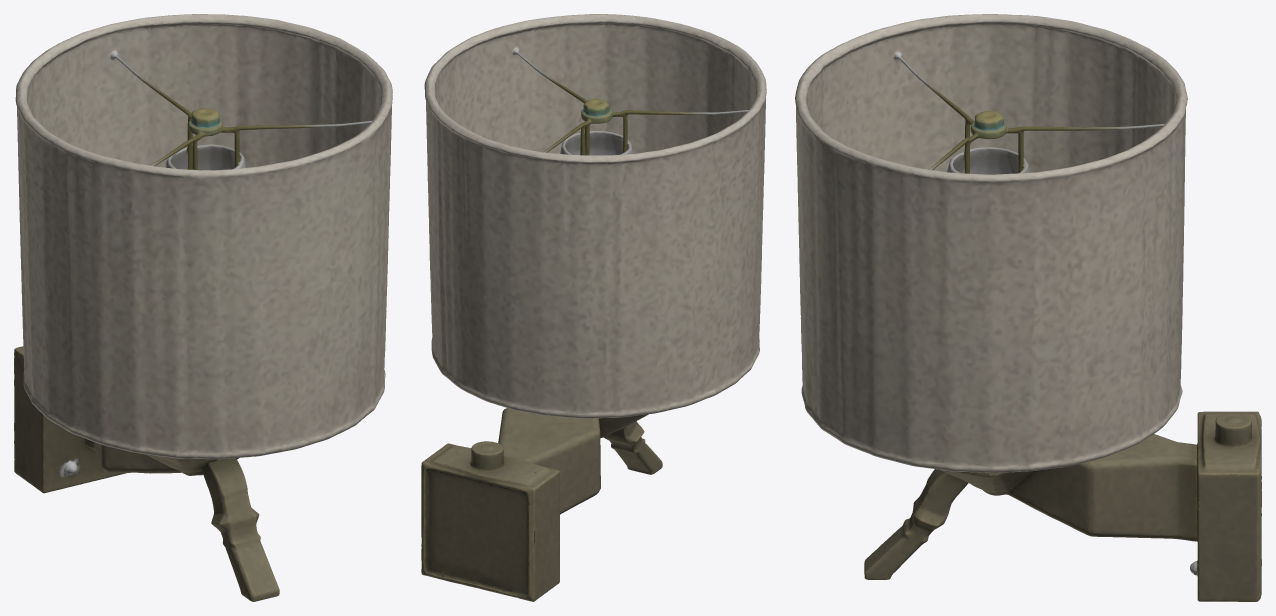
File: wall_sconce.glb
3 views of the same model, side by side, from view 1: azimuth 30°, elevation 25°; view 2: azimuth 150°, elevation 25°; view 3: azimuth 270°, elevation 25° (orthographic). The views are drawn at different scales.
Size of the model in its own units: 0.7376 by 0.9981 by 0.882.
